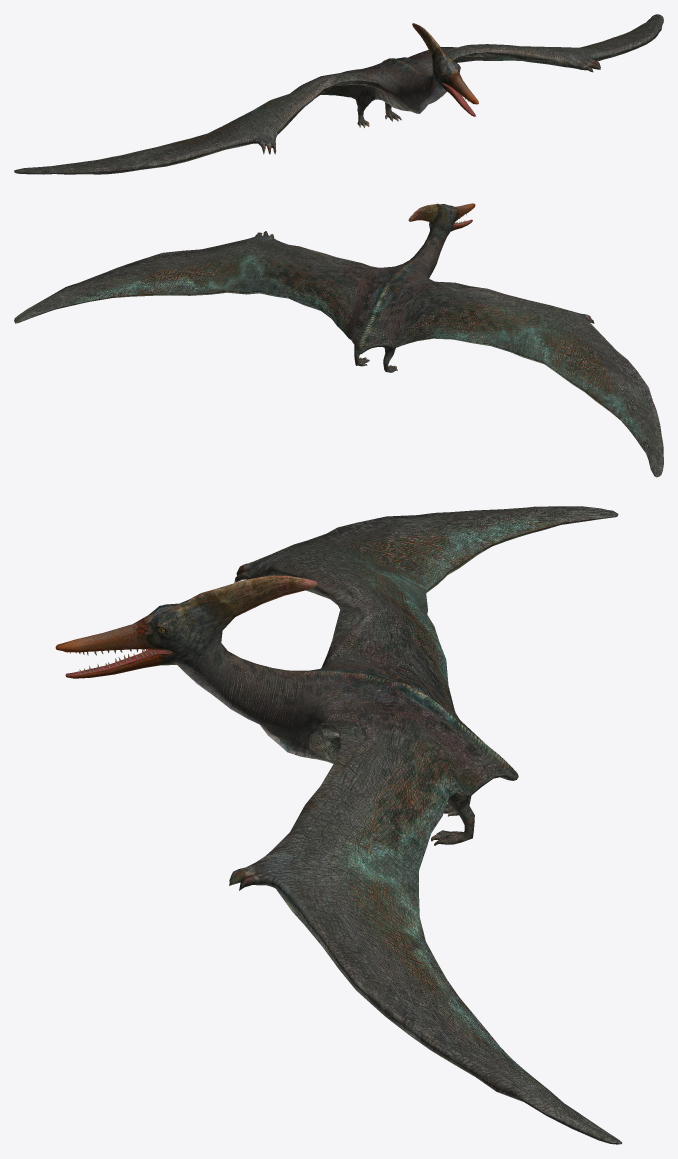
The model's file is skywing.glb.
3 renders of one model, top to bottom at view 1: azimuth 30°, elevation 25°; view 2: azimuth 150°, elevation 25°; view 3: azimuth 270°, elevation 25°, orthographic. The views are drawn at different scales.
Bounding box in the file's own units: 617 × 118 × 235.
Materials: 1 (1 with a texture image).
